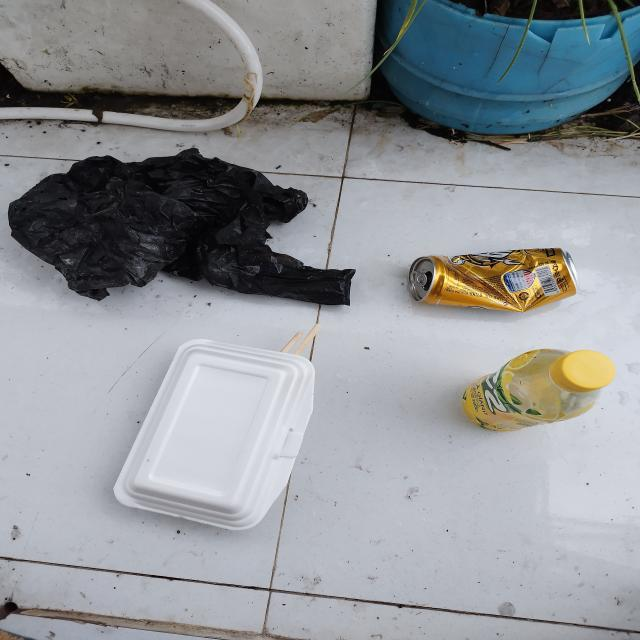bag: (6, 146, 357, 306)
bottle: (462, 348, 620, 433)
can: (404, 245, 579, 313)
foam box: (112, 336, 316, 532)
